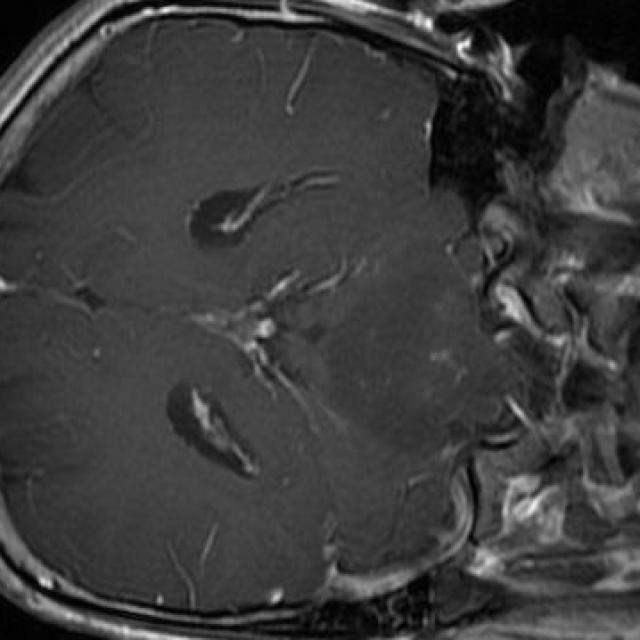glioma: (341, 242, 496, 442)
